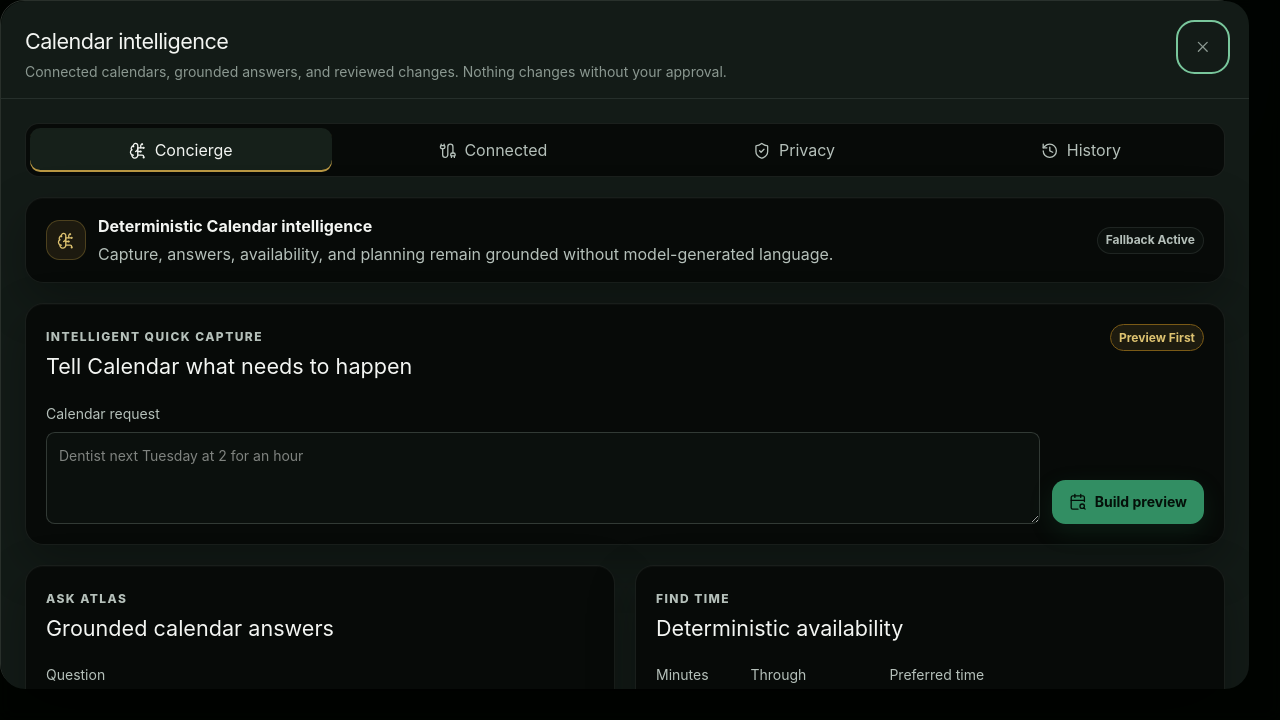
Test case: honors saved immediate-create permission only for a clear low-risk Nexus event
This screenshot has width=1280, height=720.
Expected: the text "Deterministic Calendar intelligence" is shown, top-left (98, 216), bottom-right (372, 236)
Type "Focus block 2026-07-28 at 2pm for one hour" into the text box labelled "Calendar request" at {"x": 543, "y": 478}, box top-left (46, 432), bottom-right (1040, 524)
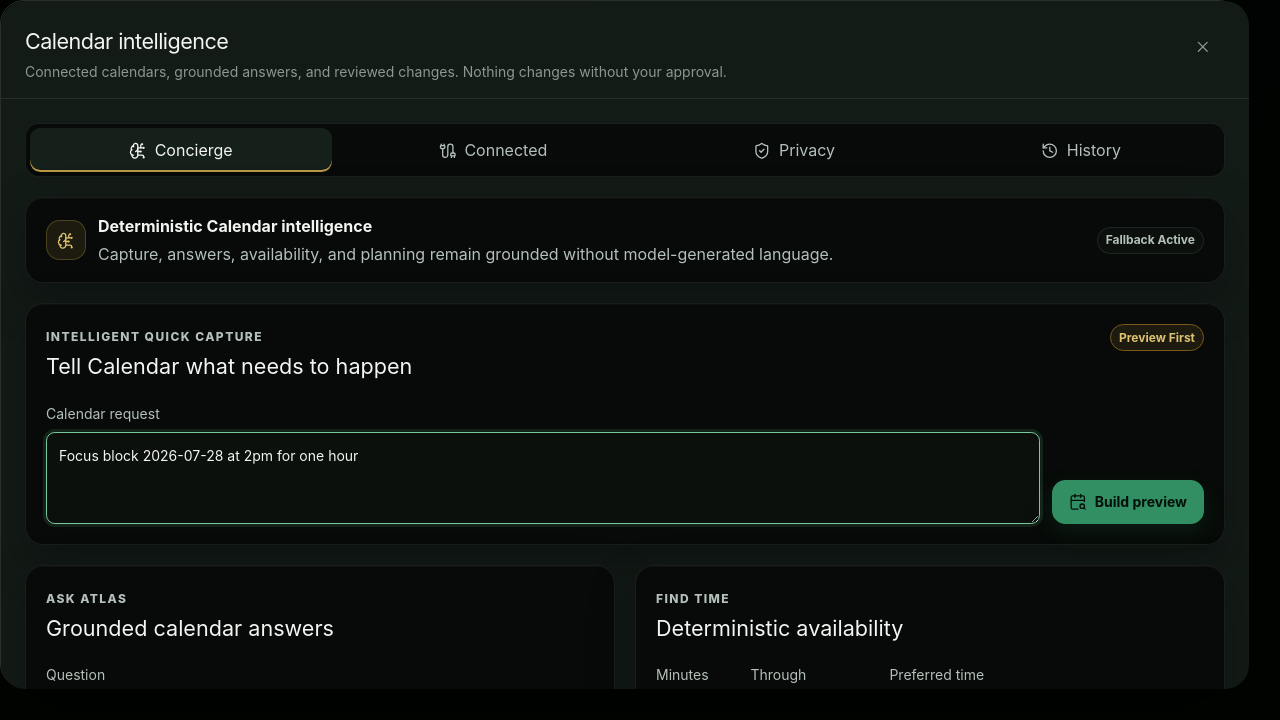
Click the button "Build preview" at {"x": 1128, "y": 502}, box top-left (1052, 480), bottom-right (1204, 524)
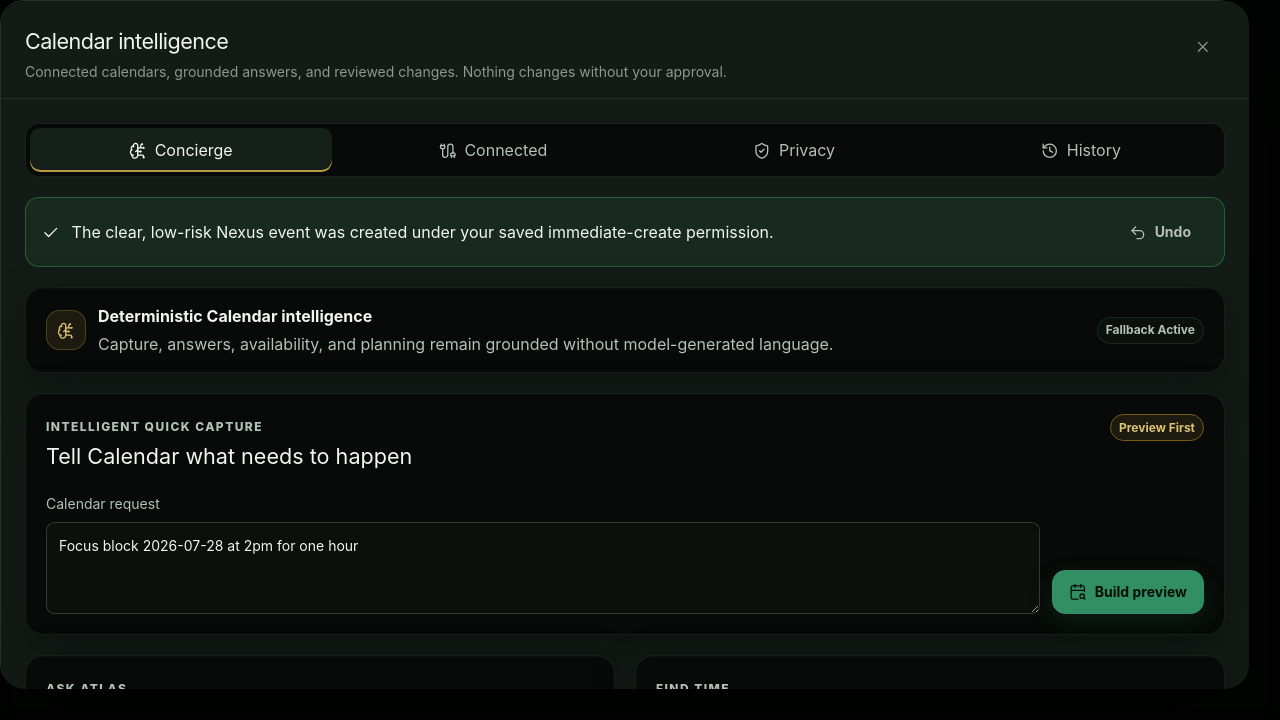
Result: the button "Undo" is shown at top-left (1112, 210), bottom-right (1208, 254)
